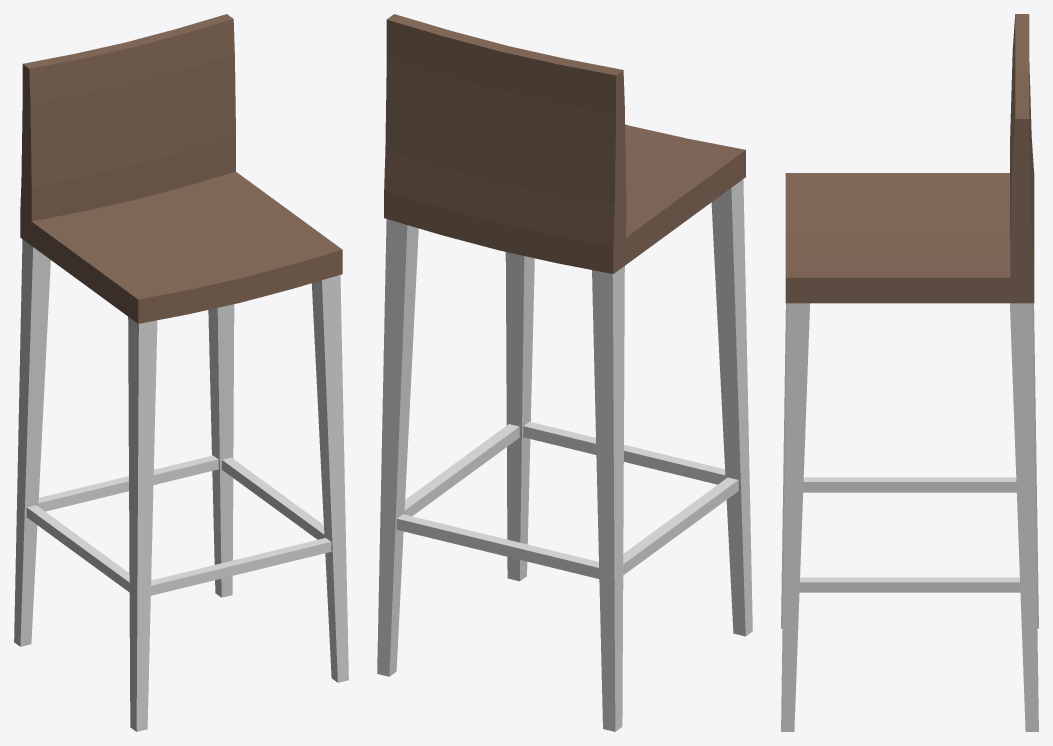
Rendered from Chair_02_C1.fbx.
3 views of the same model, side by side, from view 1: azimuth 30°, elevation 25°; view 2: azimuth 150°, elevation 25°; view 3: azimuth 270°, elevation 25° (orthographic). The views are drawn at different scales.
Visible parts, largest first — view 1: Chair_02_C1; view 2: Chair_02_C1; view 3: Chair_02_C1.
Boxes of the visible parts, x1,y1,x2,y2 form: Chair_02_C1: [14, 14, 348, 731]; Chair_02_C1: [377, 14, 752, 731]; Chair_02_C1: [781, 14, 1038, 731].
Bounding box in the file's own units: 33.75 × 88.23 × 33.75.
